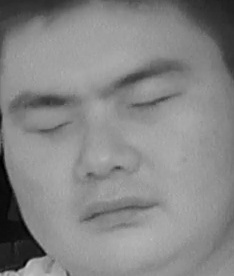blink: (129, 83, 184, 121), (25, 111, 77, 144)
mouth: (78, 186, 156, 233)
